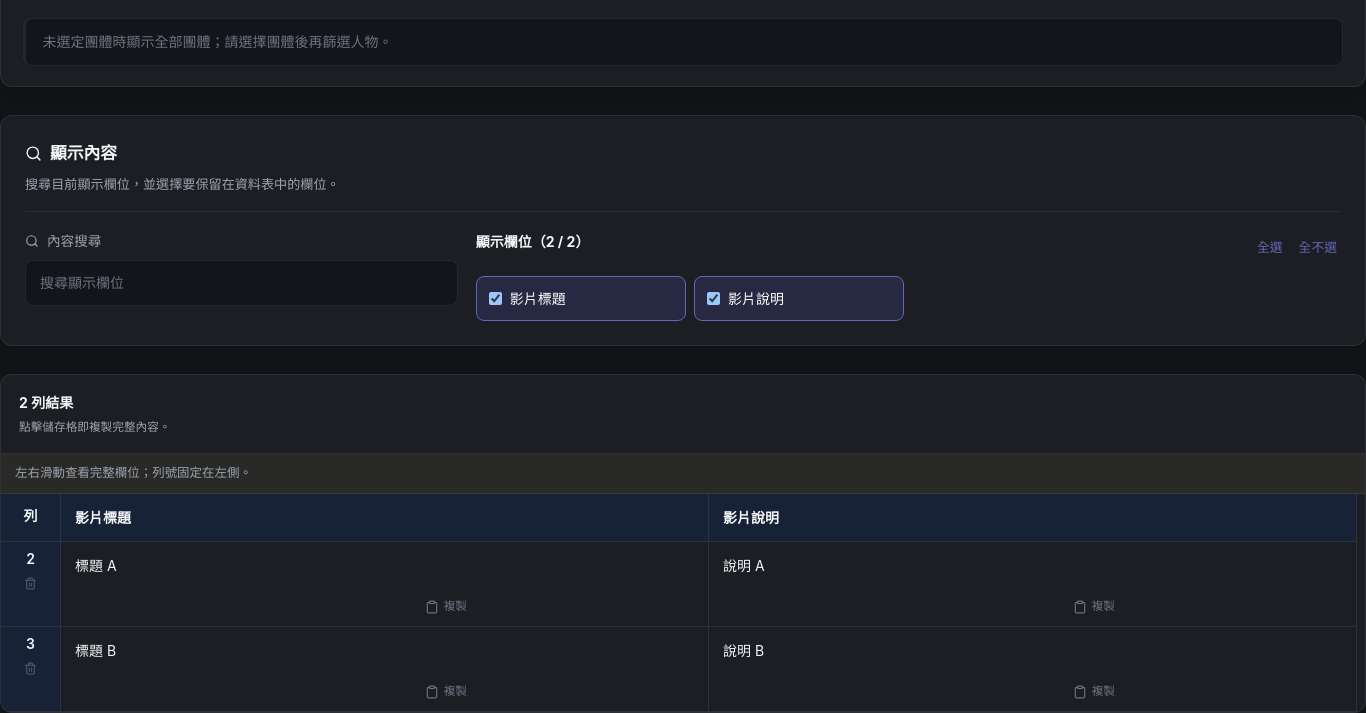
Scenario: SheetCopyPage row dismissal and restoration › allows dismissing individual rows and restoring all dismissed rows
(page scrolled)
Expected: the text "2 列結果" is shown, 19,391 -> 73,414
Expected: the text "標題 A" is shown, 75,557 -> 117,574
Click the button named "移除第 2 列": (30, 583) 20,572 -> 42,594
(page scrolled)
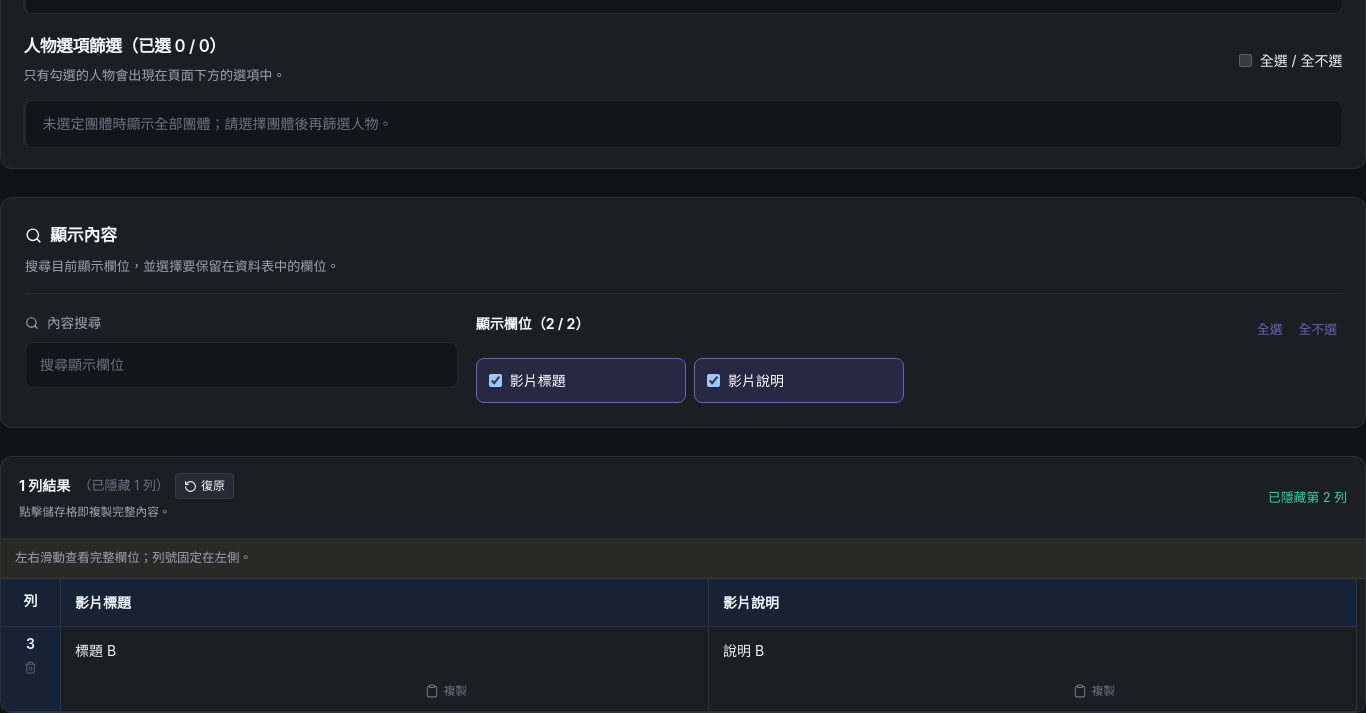
Now the text "1 列結果" is shown, box 19,474 -> 70,498
Now the text "（已隱藏 1 列）" is shown, box 78,473 -> 234,499
Now the button "標題 A" is gone
Click the button with aria-label "復原所有已隱藏的列": (204, 486) 175,473 -> 234,499
(page scrolled)
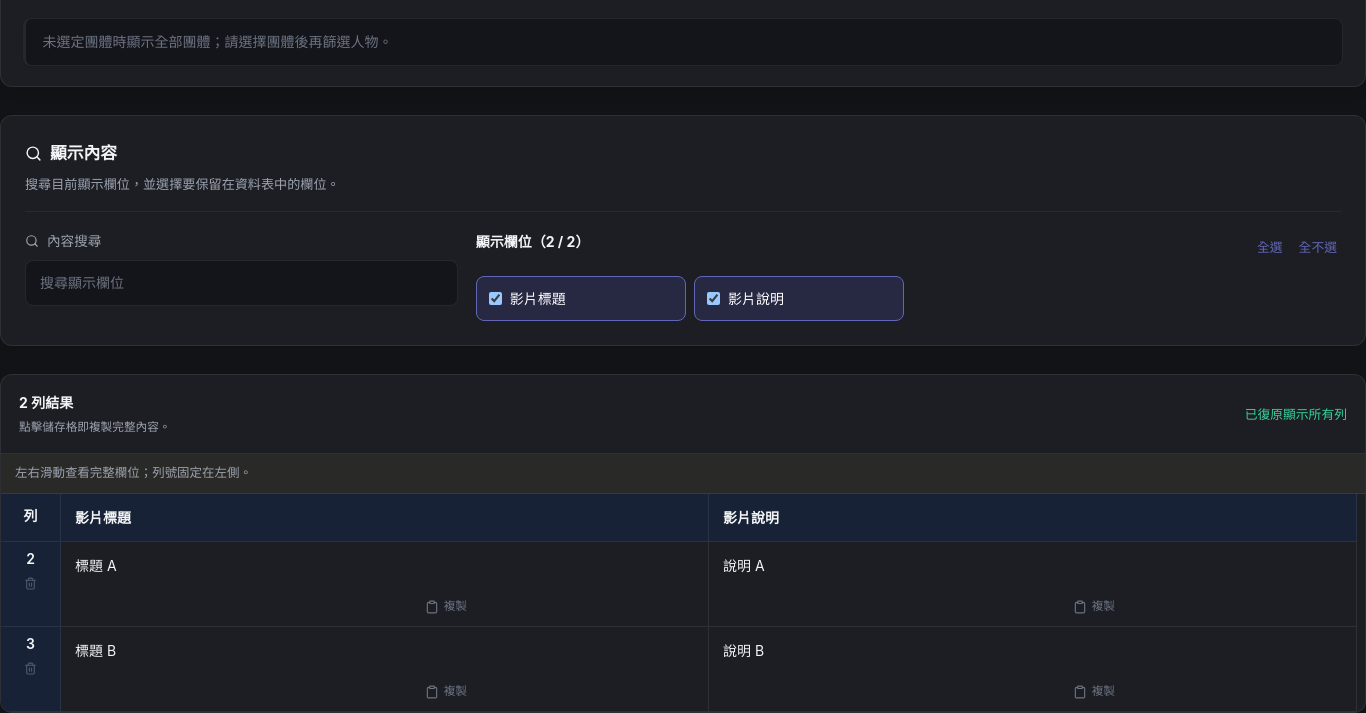
Now the text "2 列結果" is shown, box 19,391 -> 73,414
Now the text "（已隱藏 1 列）" is gone
Now the text "標題 A" is shown, box 75,557 -> 117,574
